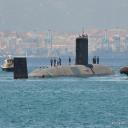submarine: (15, 38, 117, 80)
